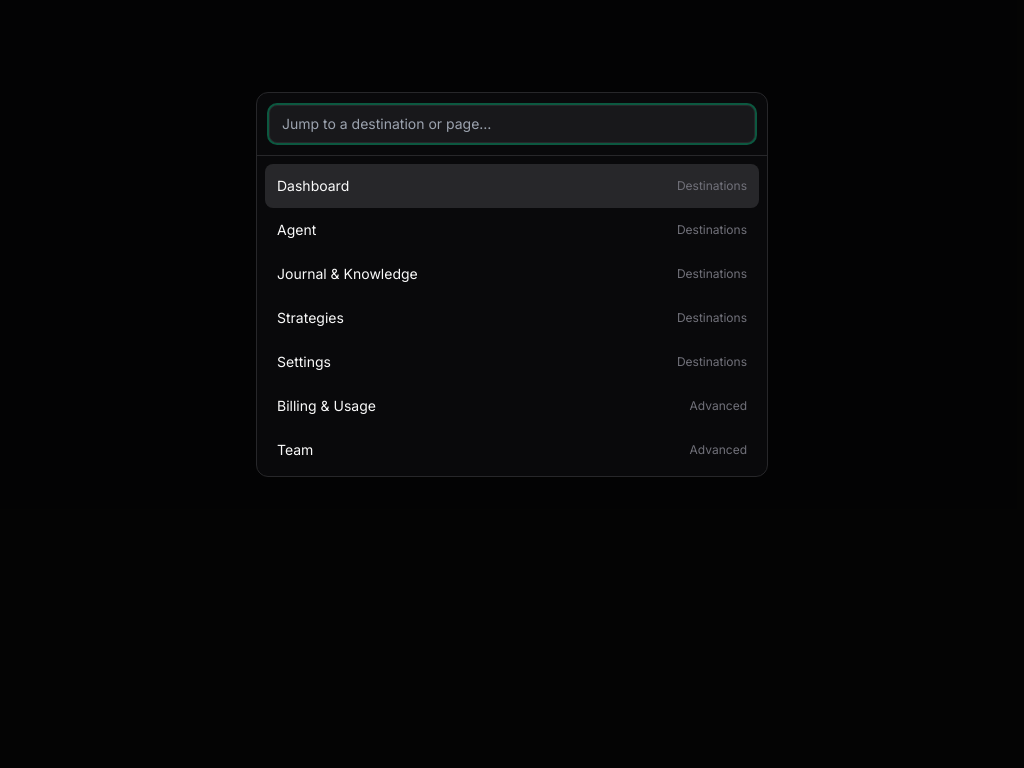
CommandMenu keyboard interaction (FP2-202) › resets the active option to the first match when the query changes
Press End in the dropdown named "Filter command menu", box [269,105,755,143]
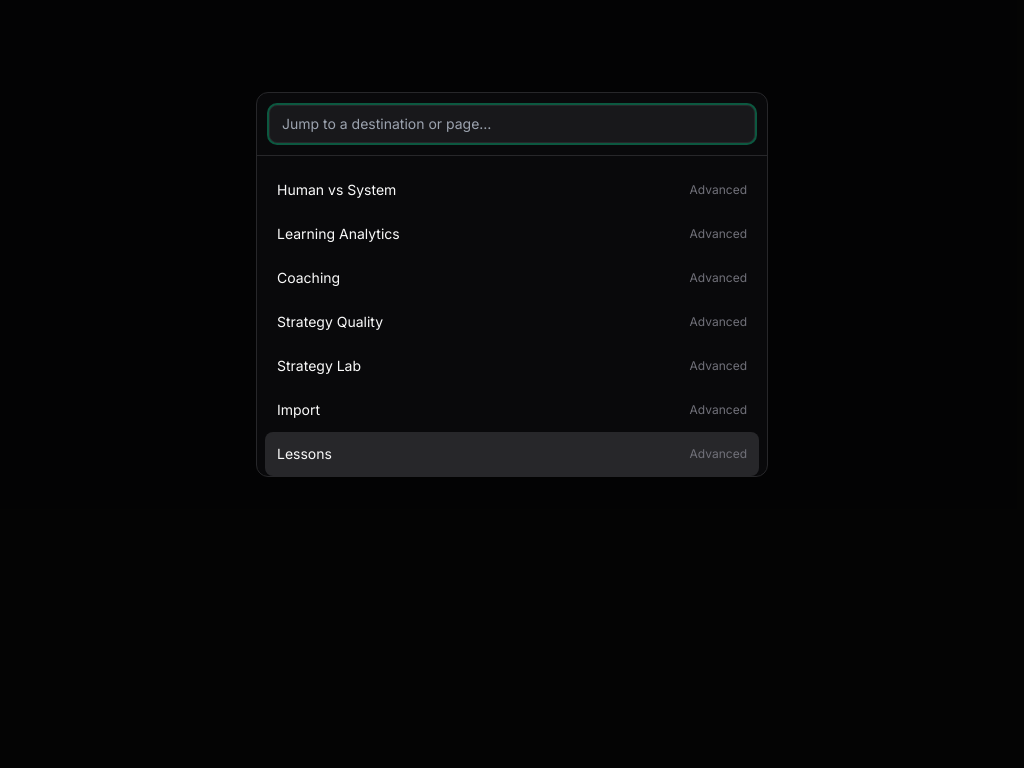
In the dropdown named "Filter command menu": x=512, y=124 [269,105,755,143], type "port"
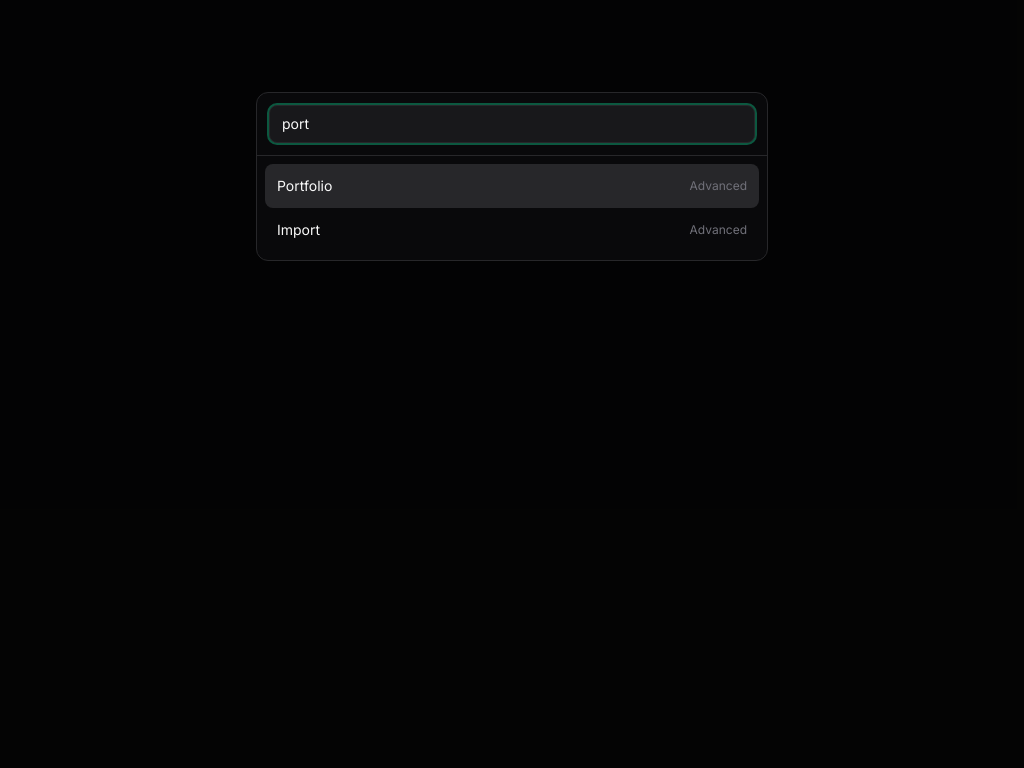
Check: the option "Portfolio Advanced" is shown, box [265,164,759,208]
